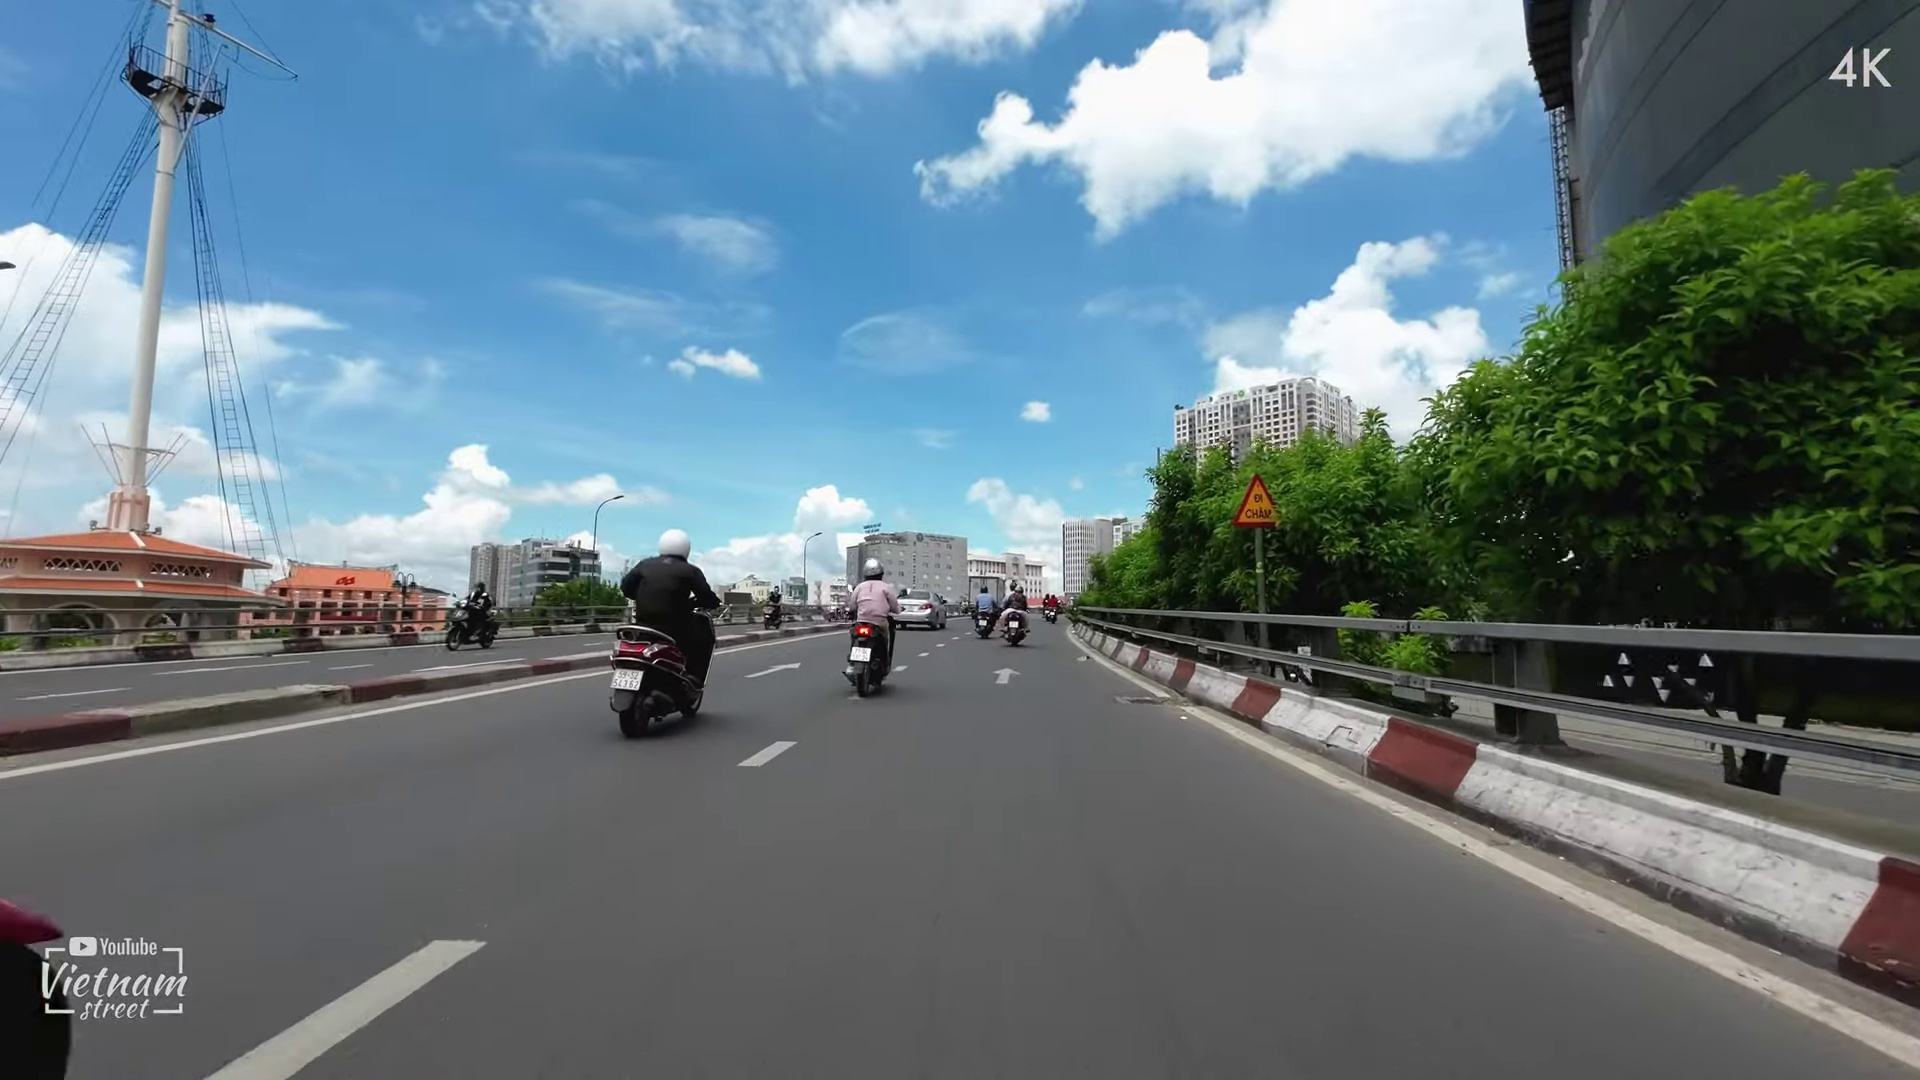di_cham: (1230, 465, 1288, 530)
